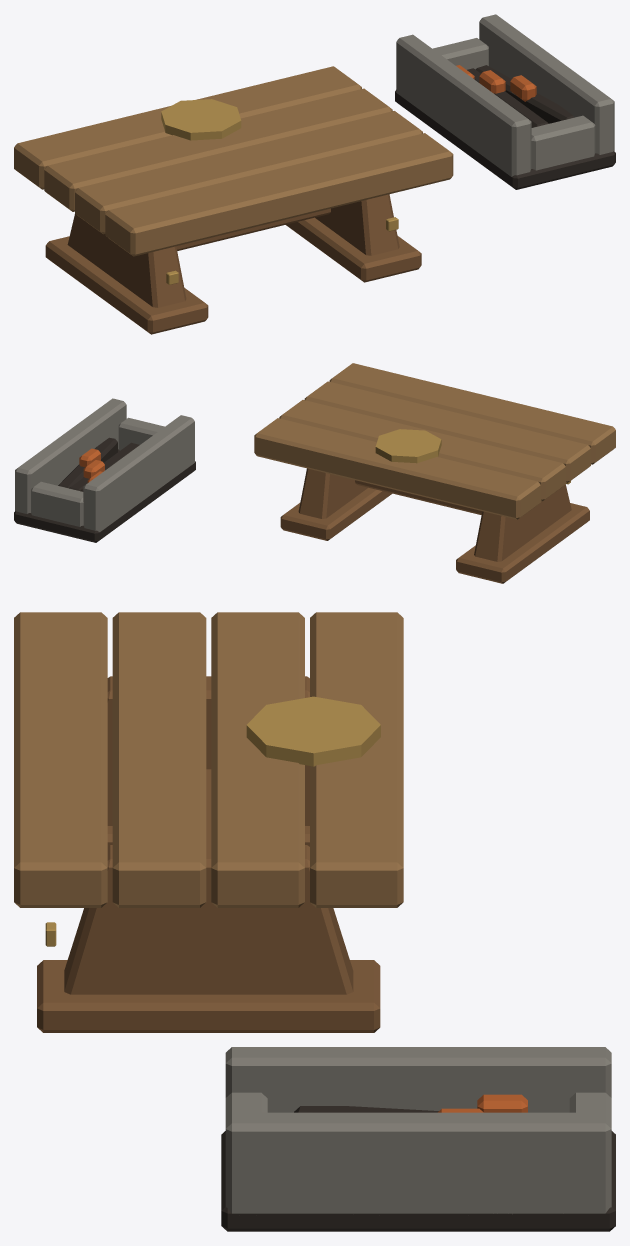
The model's file is interior-tavern.glb.
3 renders of one model, top to bottom at view 1: azimuth 30°, elevation 25°; view 2: azimuth 150°, elevation 25°; view 3: azimuth 270°, elevation 25°, orthographic. The views are drawn at different scales.
Visible parts, largest first — view 1: interior-tavern-visual; view 2: interior-tavern-visual; view 3: interior-tavern-visual.
Part boxes in pixels (x1,y1,x2,y2): interior-tavern-visual: [14, 14, 615, 334]; interior-tavern-visual: [14, 363, 615, 583]; interior-tavern-visual: [14, 612, 615, 1231].
Bounding box in the file's own units: 2.45 × 0.5325 × 1.43.
